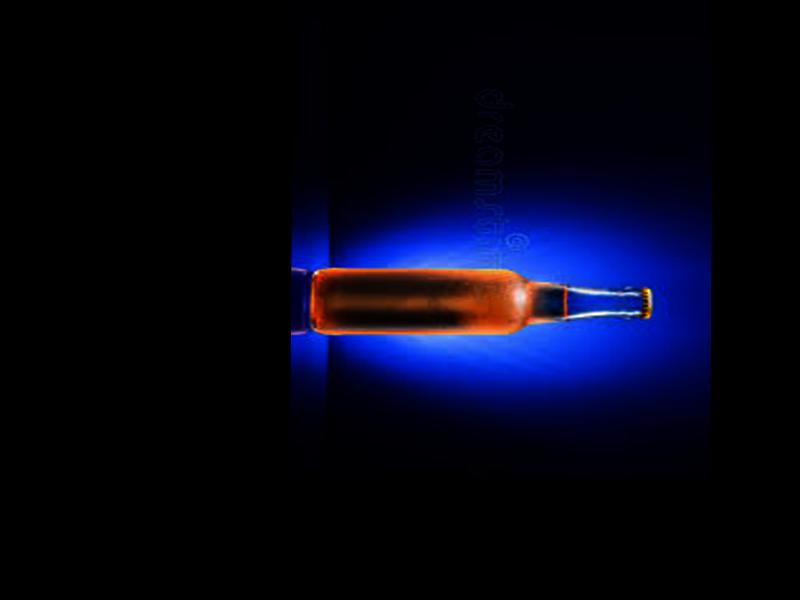Beer: (310, 265, 652, 340)
